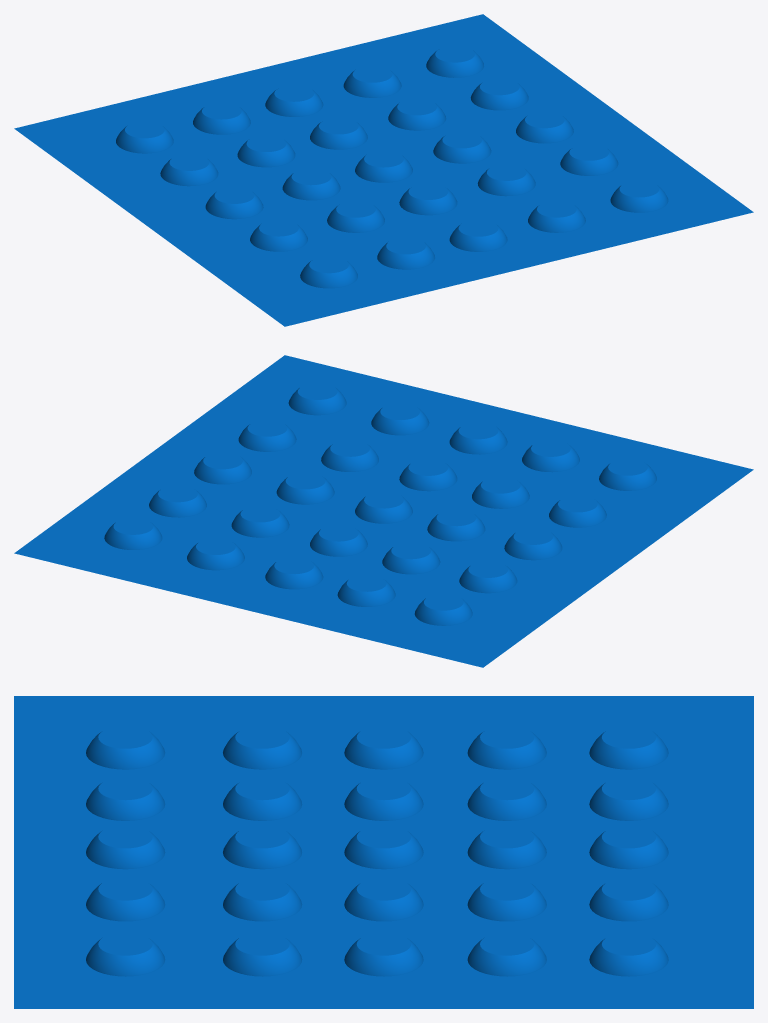
The model's file is PisoDescanse.FBX.
3 renders of one model, top to bottom at view 1: azimuth 30°, elevation 25°; view 2: azimuth 150°, elevation 25°; view 3: azimuth 270°, elevation 25°, orthographic. The views are drawn at different scales.
Visible parts, largest first — view 1: Plane001, Sphere007, Sphere012, Sphere018, Sphere010, Sphere014, Sphere011, Sphere022, Sphere025, Sphere001, Sphere002, Sphere005 (+14 smaller); view 2: Plane001, Sphere023, Sphere012, Sphere009, Sphere014, Sphere024, Sphere011, Sphere003, Sphere007, Sphere008, Sphere010, Sphere016 (+14 smaller); view 3: Plane001, Sphere009, Sphere005, Sphere008, Sphere012, Sphere015, Sphere004, Sphere010, Sphere002, Sphere014, Sphere025, Sphere016 (+14 smaller).
Part boxes in pixels (x1=…): Plane001: x1=14, y1=14, x2=753, y2=326; Sphere007: x1=237, y1=135, x2=295, y2=167; Sphere012: x1=282, y1=168, x2=340, y2=200; Sphere018: x1=399, y1=183, x2=457, y2=215; Sphere010: x1=470, y1=78, x2=528, y2=110; Sphere014: x1=433, y1=131, x2=491, y2=163; Sphere011: x1=205, y1=187, x2=263, y2=219; Sphere022: x1=377, y1=237, x2=434, y2=269; Sphere025: x1=610, y1=180, x2=668, y2=212; Sphere001: x1=116, y1=121, x2=173, y2=153; Sphere002: x1=193, y1=102, x2=250, y2=134; Sphere005: x1=426, y1=45, x2=483, y2=77; Plane001: x1=14, y1=355, x2=753, y2=667; Sphere023: x1=449, y1=422, x2=507, y2=454; Sphere012: x1=427, y1=509, x2=485, y2=541; Sphere009: x1=231, y1=505, x2=289, y2=537; Sphere014: x1=276, y1=472, x2=334, y2=504; Sphere024: x1=371, y1=403, x2=429, y2=435; Sphere011: x1=504, y1=528, x2=562, y2=560; Sphere003: x1=265, y1=557, x2=323, y2=589; Sphere007: x1=382, y1=542, x2=440, y2=574; Sphere008: x1=310, y1=524, x2=367, y2=556; Sphere010: x1=149, y1=485, x2=206, y2=517; Sphere016: x1=549, y1=495, x2=606, y2=527; Plane001: x1=14, y1=696, x2=753, y2=1008; Sphere009: x1=467, y1=877, x2=546, y2=921; Sphere005: x1=589, y1=932, x2=668, y2=976; Sphere008: x1=467, y1=825, x2=546, y2=869; Sphere012: x1=344, y1=777, x2=423, y2=820; Sphere015: x1=344, y1=932, x2=423, y2=976; Sphere004: x1=589, y1=877, x2=668, y2=921; Sphere010: x1=467, y1=932, x2=546, y2=976; Sphere002: x1=589, y1=777, x2=668, y2=820; Sphere014: x1=344, y1=877, x2=423, y2=921; Sphere025: x1=86, y1=932, x2=165, y2=976; Sphere016: x1=223, y1=725, x2=301, y2=769.
Size of the model in its own units: 2000 by 46.42 by 2000.
